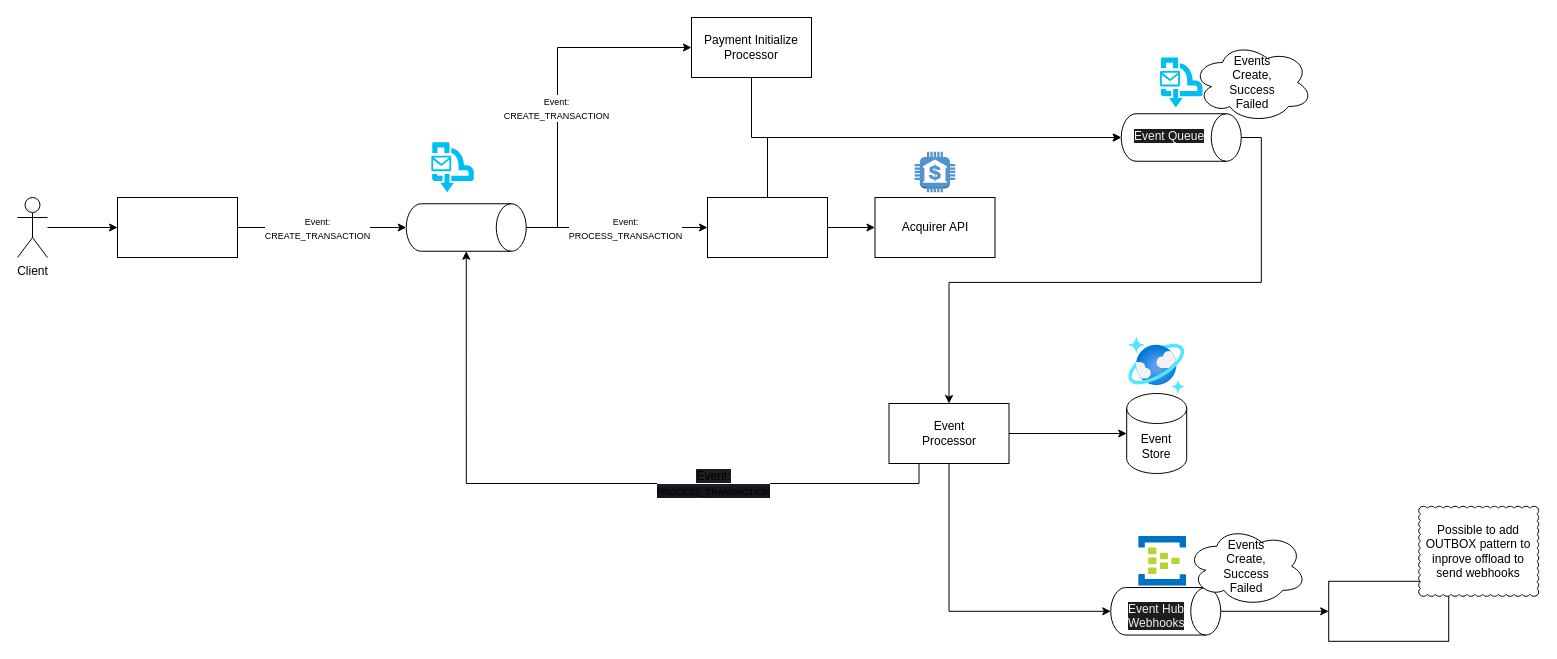
The diagram is 1557 pixels wide and 659 high, and some of its shapes have lost their labels. Here are the shapes that lost their labels. From the top down, the box of each, then its label:
(116, 196, 238, 258): Merchant API Gateway
(405, 203, 526, 251): Payment Queue
(706, 196, 828, 258): Payment Processor
(1328, 580, 1449, 641): Webhook Service Consumer
